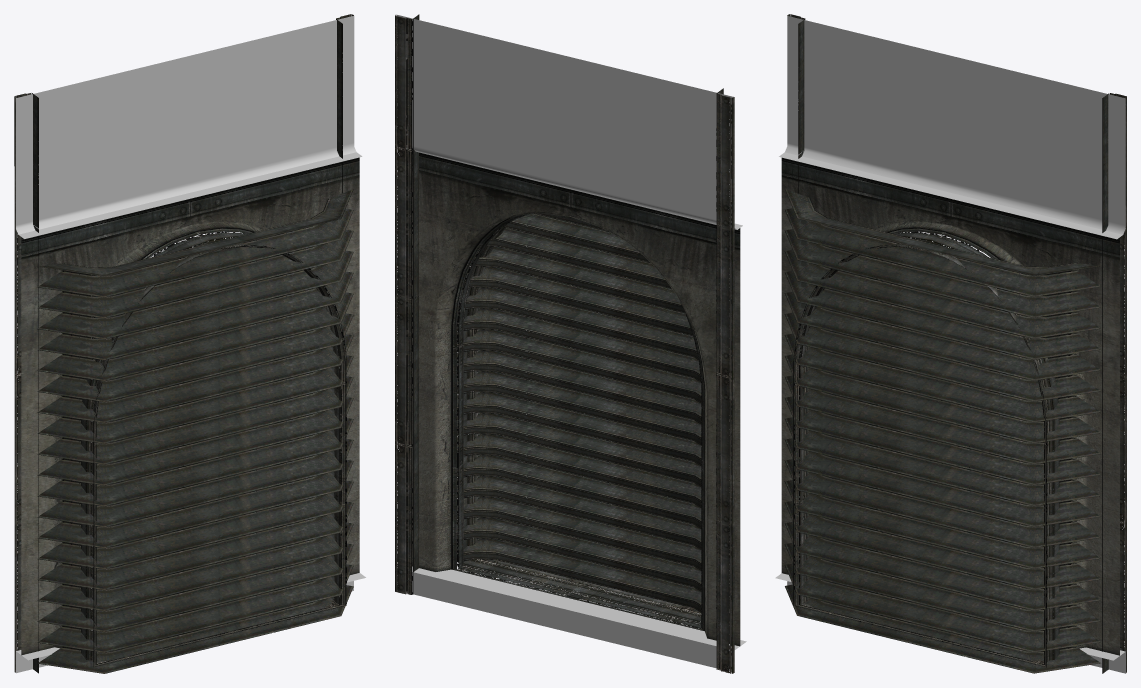
Rendered from tesla_modules1_wall_core_shell.dae.
The picture shows the model from 3 angles, left to right: view 1: azimuth 30°, elevation 25°; view 2: azimuth 150°, elevation 25°; view 3: azimuth 330°, elevation 25°; orthographic projection.
Parts seen in each view (by area): view 1: polySurface26, wall_arch_stone1, wall_arch_arch1; view 2: polySurface26, wall_arch_stone1, wall_arch_arch1; view 3: polySurface26, wall_arch_stone1, wall_arch_arch1.
Boxes of the visible parts, box(x1,y1,x2,y2) form: polySurface26: box(14, 14, 353, 673); wall_arch_stone1: box(16, 16, 365, 673); wall_arch_arch1: box(21, 157, 359, 655); polySurface26: box(395, 14, 734, 673); wall_arch_stone1: box(396, 14, 746, 671); wall_arch_arch1: box(402, 149, 740, 646); polySurface26: box(784, 14, 1126, 673); wall_arch_stone1: box(775, 16, 1125, 673); wall_arch_arch1: box(781, 157, 1119, 655).
Size of what is drawn, in the model's own units: 4 by 6.5 by 0.8479.
